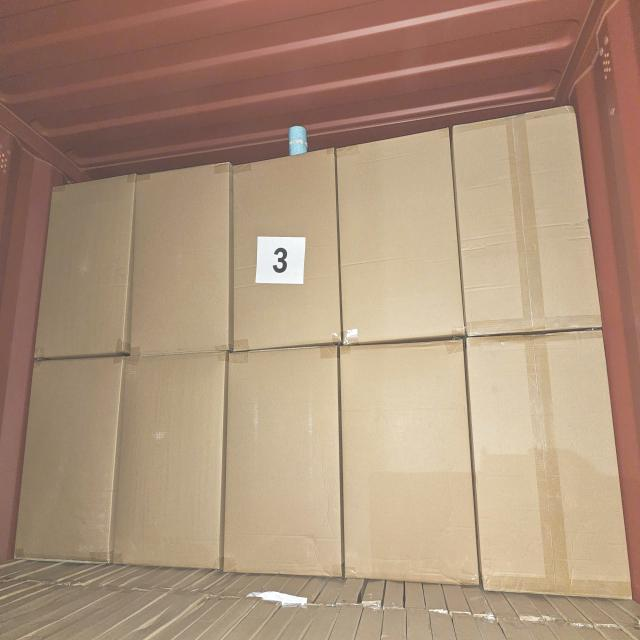Carton: (473, 326, 627, 604), (452, 108, 588, 342), (344, 338, 474, 582), (340, 133, 466, 343), (228, 344, 342, 573), (115, 351, 224, 568), (15, 351, 116, 561), (235, 150, 338, 354), (133, 165, 231, 355), (38, 176, 128, 360)
